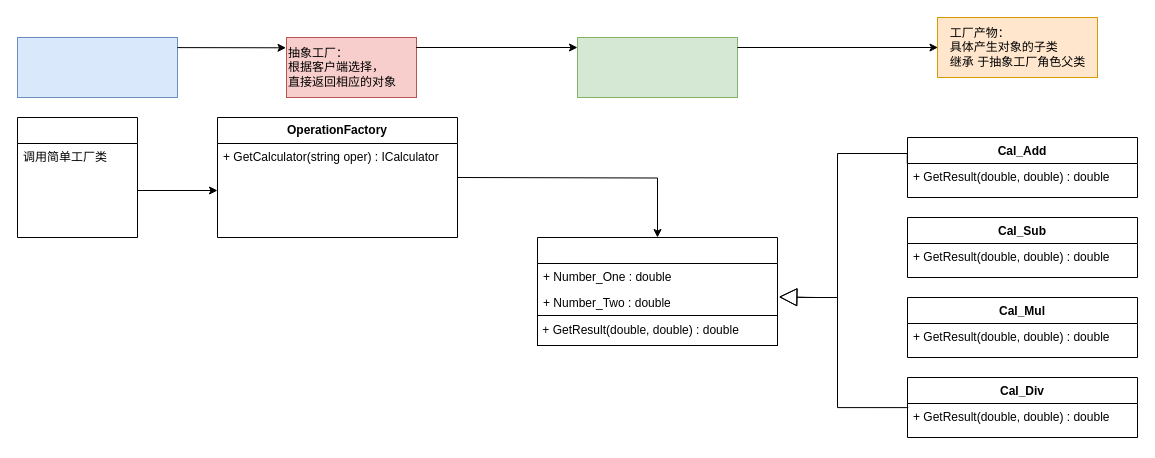
The diagram is 1155 pixels wide and 458 high, and some of its shapes have lost their labels. Each missing label, with the box of its shape:
Calculator: (536, 236, 778, 346)
客户端: (16, 116, 138, 238)
客户端： 初始化参数， 调用抽象工厂返回的对象: (16, 36, 178, 98)
抽象工厂角色： 定义工厂创建对象的父类 可以是抽象类/接口: (576, 36, 738, 98)
